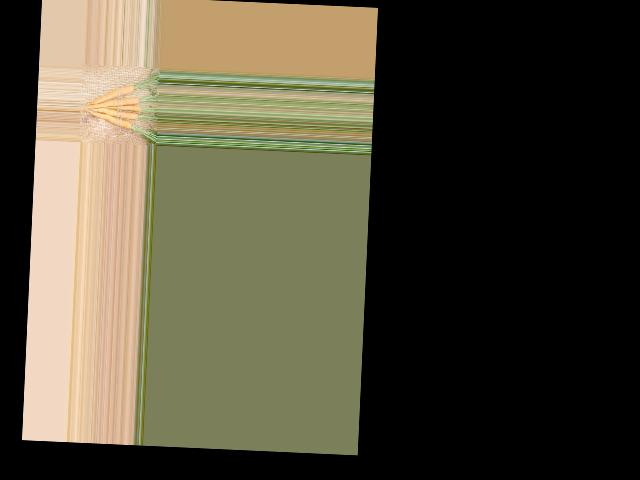carrot: (90, 111, 132, 129)
